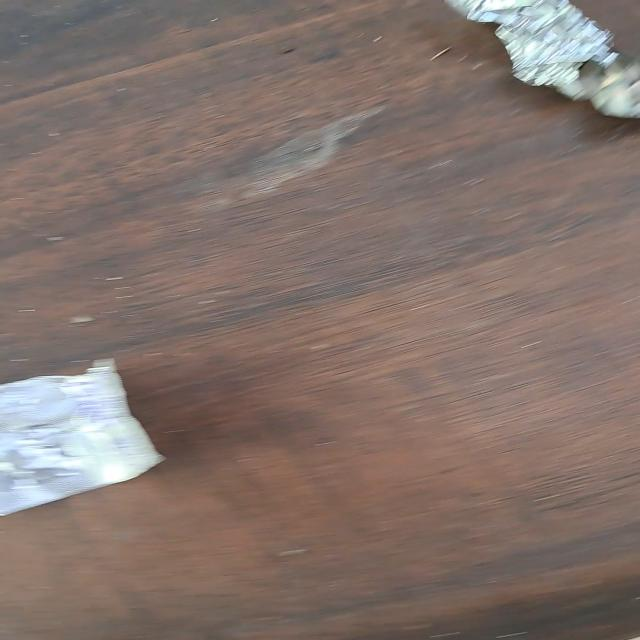Anorganik: (4, 359, 168, 520), (460, 2, 640, 118)
